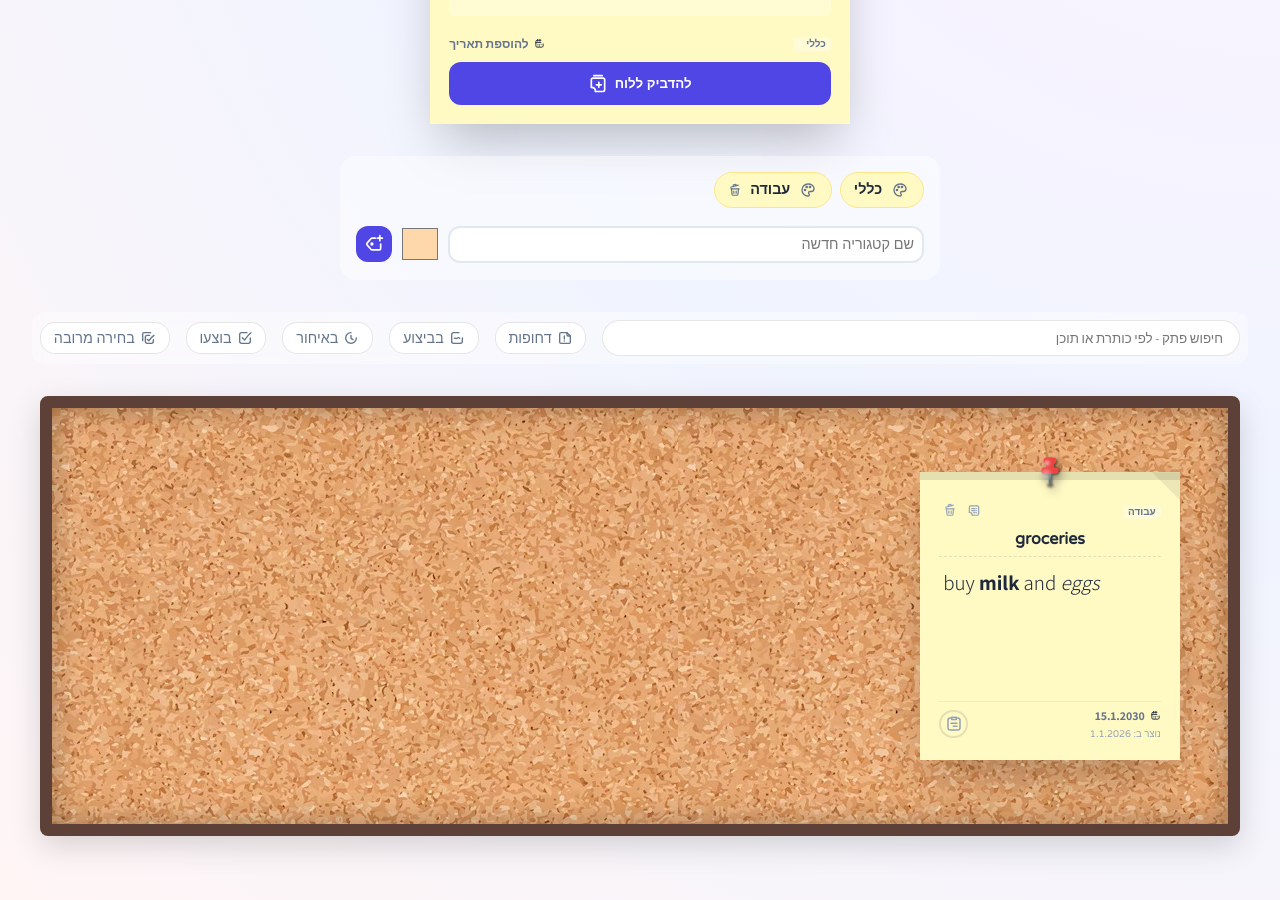
it: note fields are exposed by name › the note text shows *bold*/_italic_ markers formatted when not being edited, and raw while editing
(page scrolled)
Check: the text box labelled "milk" is shown, box [979,570,1019,596]
Check: the text box labelled "eggs" is shown, box [1060,570,1099,596]
Focus the field named "תוכן הפתק": (1021, 583) [943,570,1099,596]
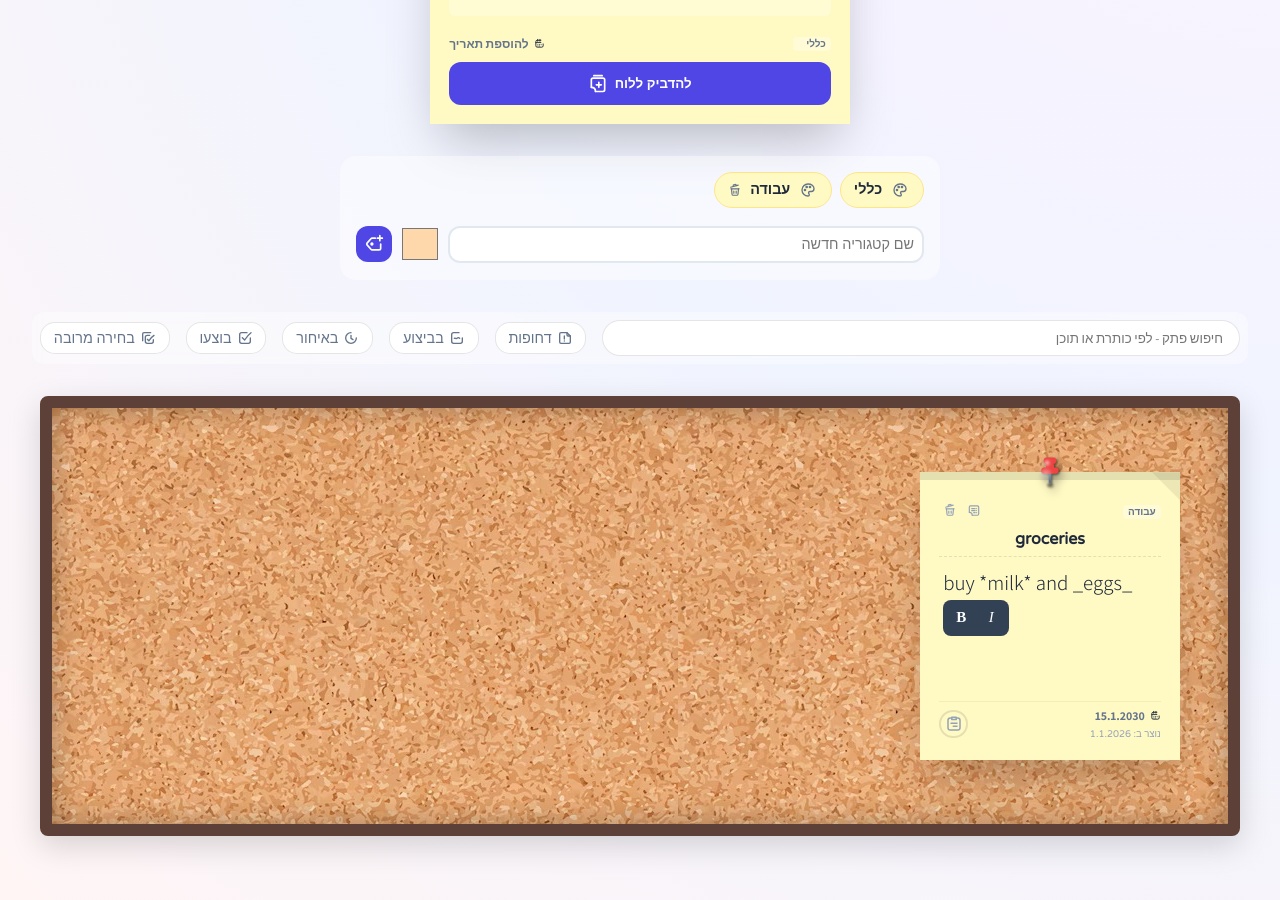
Check: the field named "תוכן הפתק" reads "buy *milk* and _eggs_", box [943,568,1148,598]
